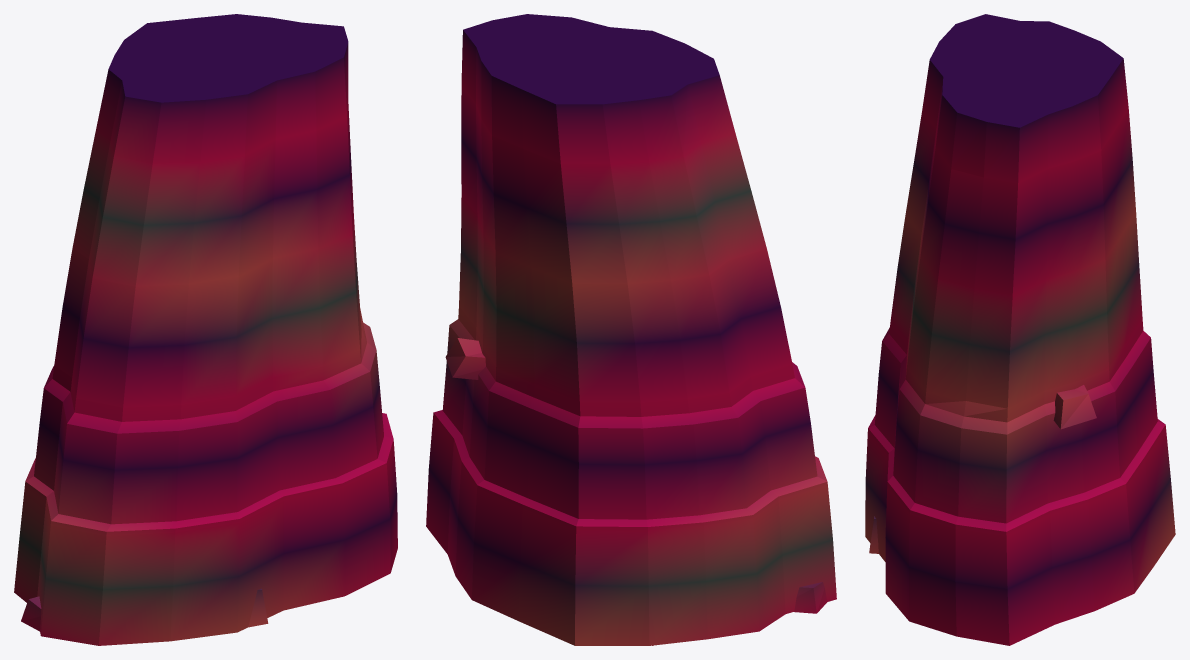
Rendered from SM_CinderCanyon_Rock_C_LOD1.fbx.
3 renders of one model, left to right at view 1: azimuth 30°, elevation 25°; view 2: azimuth 150°, elevation 25°; view 3: azimuth 270°, elevation 25°, orthographic. The views are drawn at different scales.
Visible parts, largest first — view 1: SM_CinderCanyon_Rock_C_LOD1; view 2: SM_CinderCanyon_Rock_C_LOD1; view 3: SM_CinderCanyon_Rock_C_LOD1.
Boxes of the visible parts, x1,y1,x2,y2 form: SM_CinderCanyon_Rock_C_LOD1: (14,14,397,645); SM_CinderCanyon_Rock_C_LOD1: (426,14,836,645); SM_CinderCanyon_Rock_C_LOD1: (865,14,1175,645).
Bounding box in the file's own units: 100 × 72 × 128.
